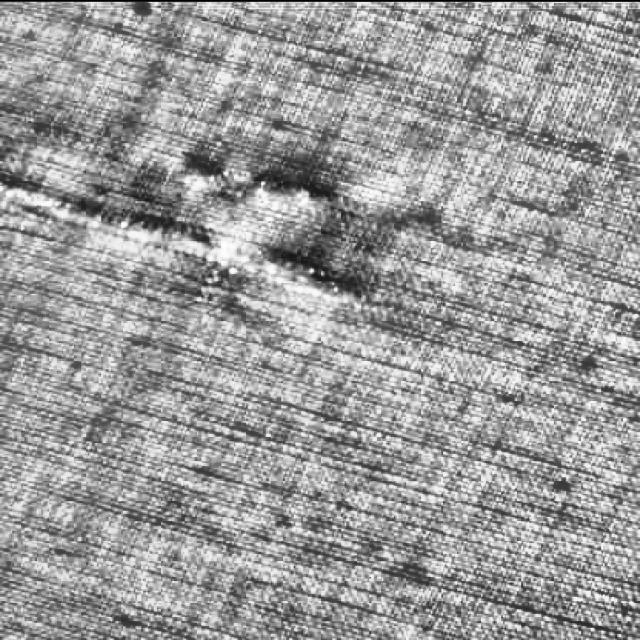thread_error: (0, 177, 390, 328), (156, 126, 375, 208)
